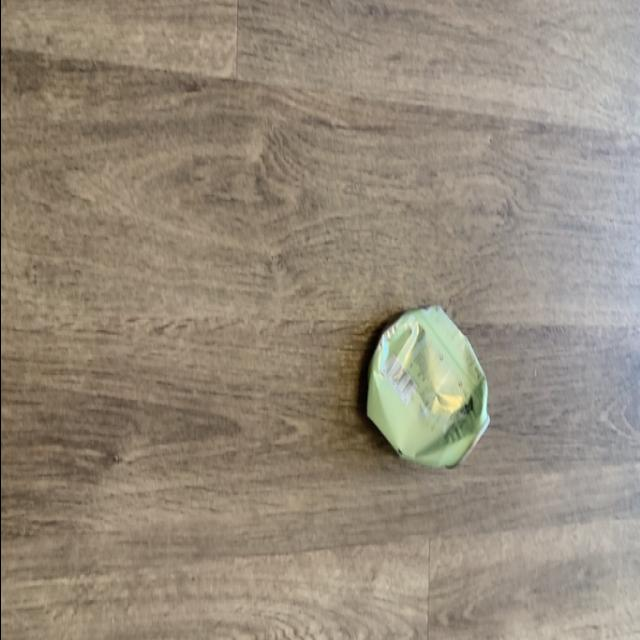Aluminum Can: (317, 295, 503, 483)
